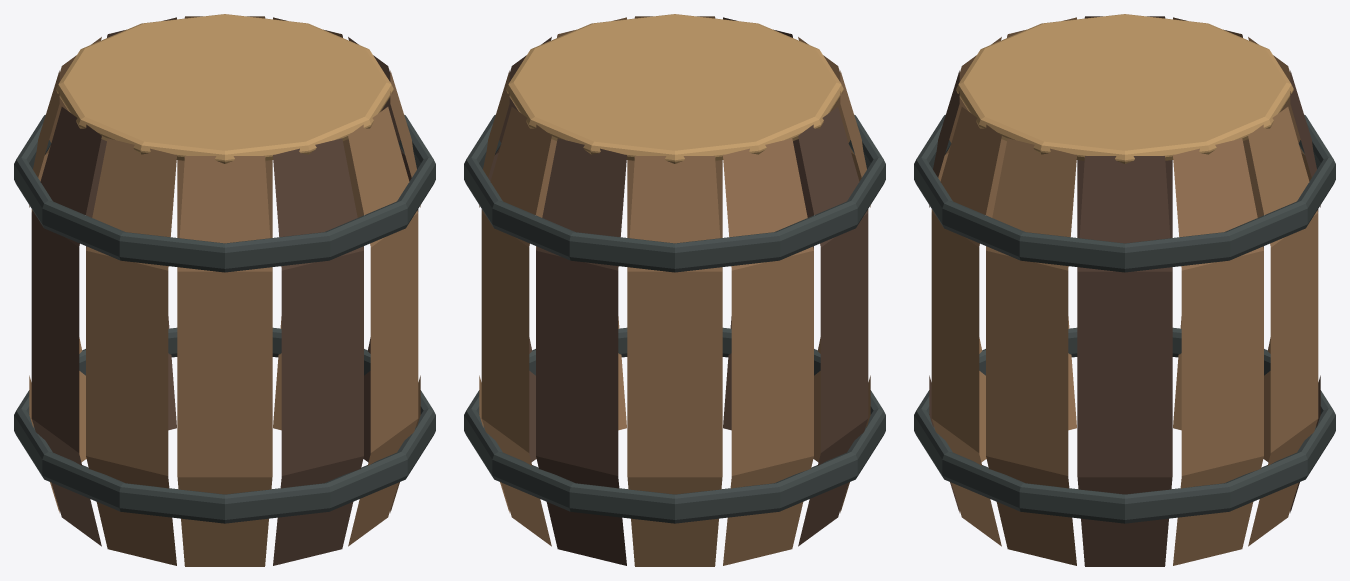
File: prop_barrel__attachments.glb
The picture shows the model from 3 angles, left to right: view 1: azimuth 30°, elevation 25°; view 2: azimuth 150°, elevation 25°; view 3: azimuth 270°, elevation 25°; orthographic projection.
Parts seen in each view (by area): view 1: prop_barrel__attachments__mesh_00; view 2: prop_barrel__attachments__mesh_00; view 3: prop_barrel__attachments__mesh_00.
Part boxes in pixels (left/top/right/bottom): prop_barrel__attachments__mesh_00: left=14, top=14, right=435, bottom=566; prop_barrel__attachments__mesh_00: left=464, top=14, right=885, bottom=566; prop_barrel__attachments__mesh_00: left=914, top=14, right=1335, bottom=566.
Bounding box in the file's own units: 0.67 × 0.7265 × 0.67.
